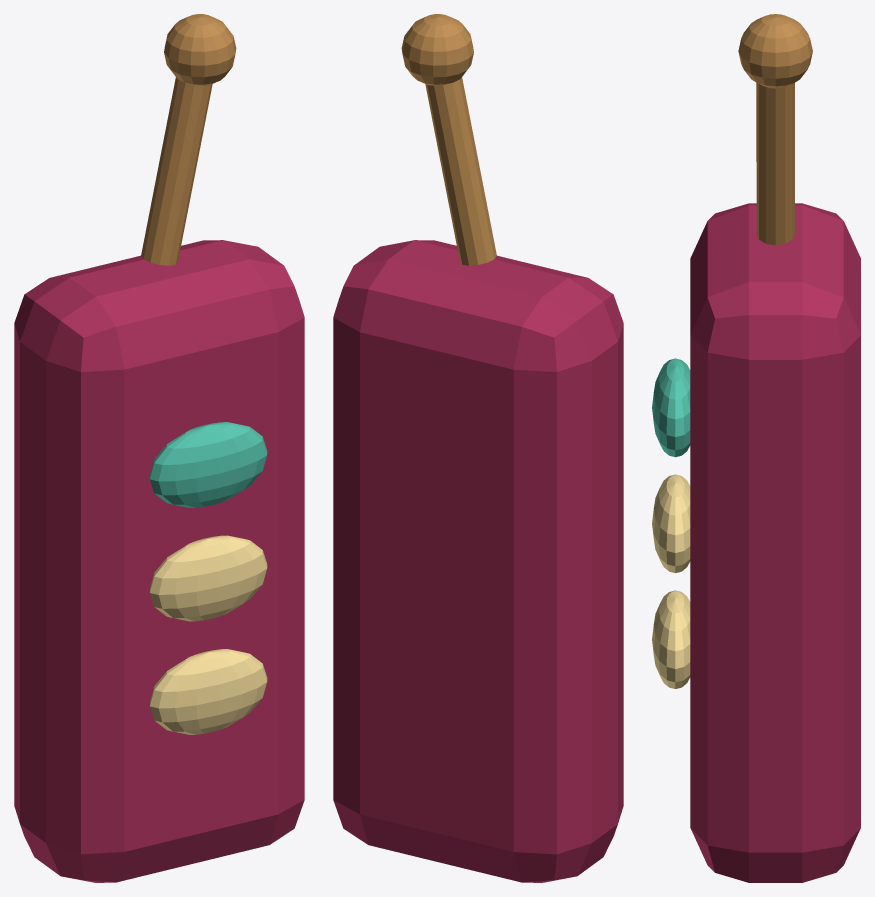
File: Item_event_remote.fbx
3 views of the same model, side by side, from view 1: azimuth 30°, elevation 25°; view 2: azimuth 150°, elevation 25°; view 3: azimuth 270°, elevation 25° (orthographic). The views are drawn at different scales.
Visible parts, largest first — view 1: Item_event_remote.Mesh; view 2: Item_event_remote.Mesh; view 3: Item_event_remote.Mesh.
Boxes of the visible parts, <box> form: Item_event_remote.Mesh: <box>14,14,304,882</box>; Item_event_remote.Mesh: <box>333,14,623,882</box>; Item_event_remote.Mesh: <box>652,14,860,882</box>.
Size of the model in its own units: 28 by 87.5 by 19.6.
